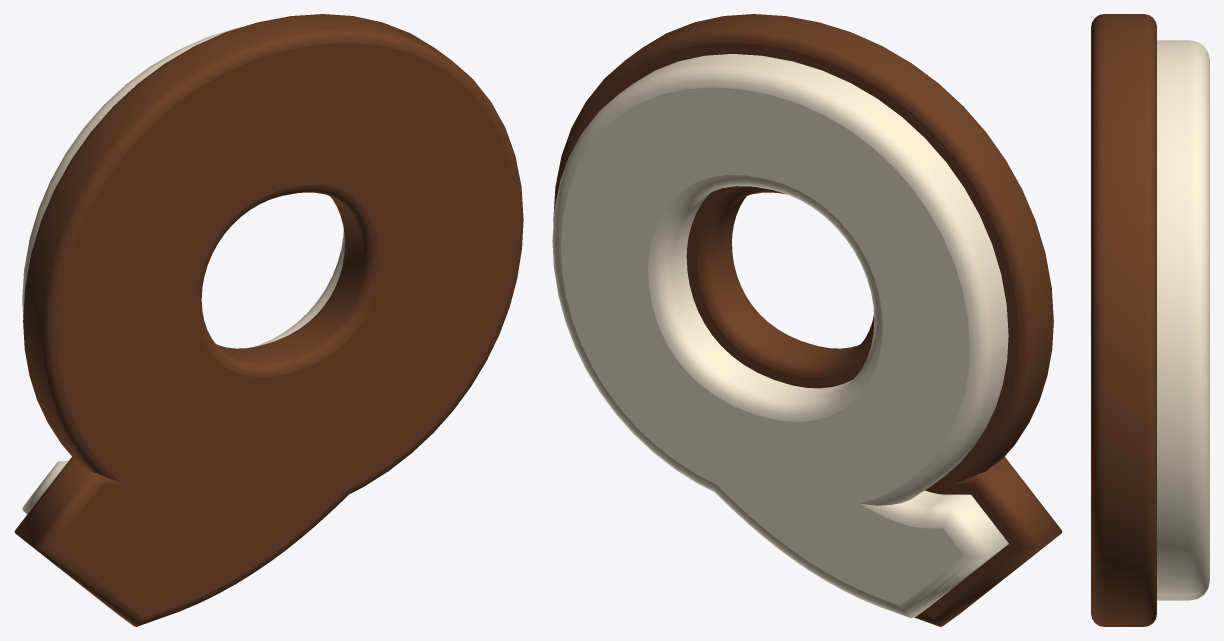
Rendered from Letter_Q.fbx.
3 renders of one model, left to right at view 1: azimuth 30°, elevation 25°; view 2: azimuth 150°, elevation 25°; view 3: azimuth 270°, elevation 25°, orthographic. The views are drawn at different scales.
Visible parts, largest first — view 1: Letter_Q; view 2: Letter_Q; view 3: Letter_Q.
Part boxes in pixels (x1,y1,x2,y2): Letter_Q: [14, 14, 523, 626]; Letter_Q: [552, 14, 1062, 626]; Letter_Q: [1091, 14, 1209, 626].
Bounding box in the file's own units: 0.9631 × 1.04 × 0.18.
1 material, 1 textured.
